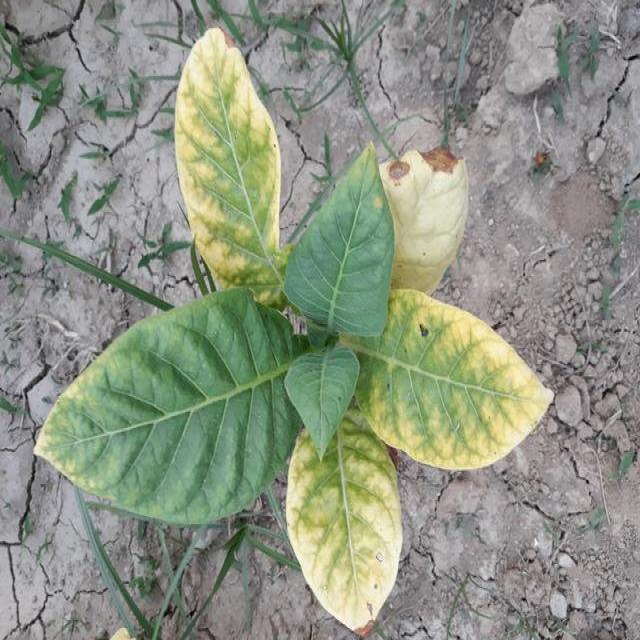crop: (44, 32, 555, 627)
